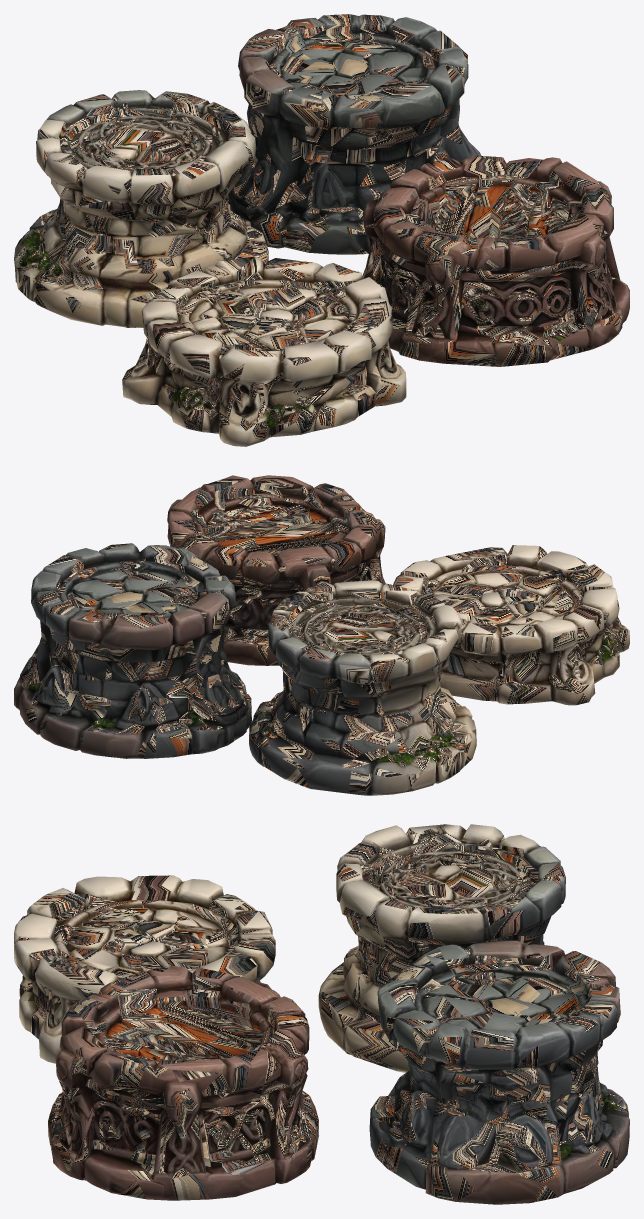
File: Bases_Pedestals_Minis.glb
The picture shows the model from 3 angles, top to bottom: view 1: azimuth 30°, elevation 25°; view 2: azimuth 150°, elevation 25°; view 3: azimuth 270°, elevation 25°; orthographic projection. The views are drawn at different scales.
Visible parts, largest first — view 1: Bases_Pedestals_Minis; view 2: Bases_Pedestals_Minis; view 3: Bases_Pedestals_Minis.
Part boxes in pixels (box(x1,y1,x2,y2)): Bases_Pedestals_Minis: box(14, 14, 629, 446); Bases_Pedestals_Minis: box(14, 475, 629, 795); Bases_Pedestals_Minis: box(14, 824, 629, 1204).
Bounding box in the file's own units: 1.85 × 0.531 × 1.9.
1 material, 1 textured.
